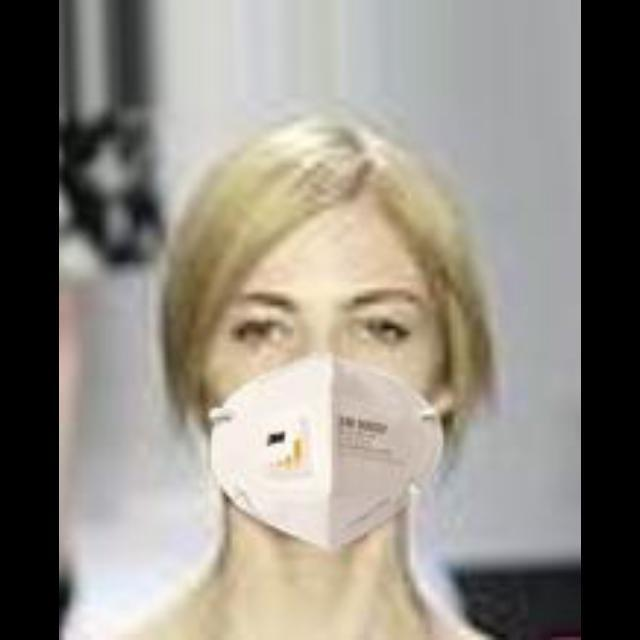suspicion: (175, 147, 509, 516)
